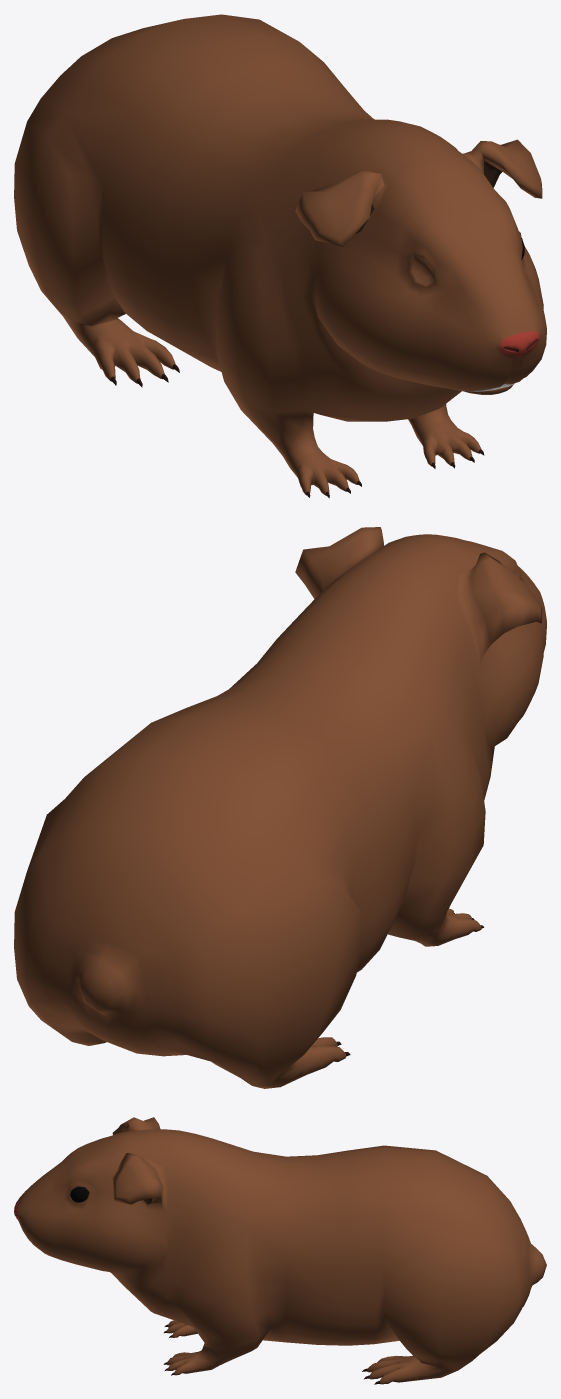
The model's file is guinea_pig.obj.
3 views of the same model, one above another, from view 1: azimuth 30°, elevation 25°; view 2: azimuth 150°, elevation 25°; view 3: azimuth 270°, elevation 25° (orthographic). The views are drawn at different scales.
Visible parts, largest first — view 1: guinea_pig; view 2: guinea_pig; view 3: guinea_pig.
Boxes of the visible parts, <box> form: guinea_pig: <box>14,14,546,498</box>; guinea_pig: <box>14,527,546,1088</box>; guinea_pig: <box>14,1117,546,1384</box>.
Bounding box in the file's own units: 0.104 × 0.1145 × 0.2559.
